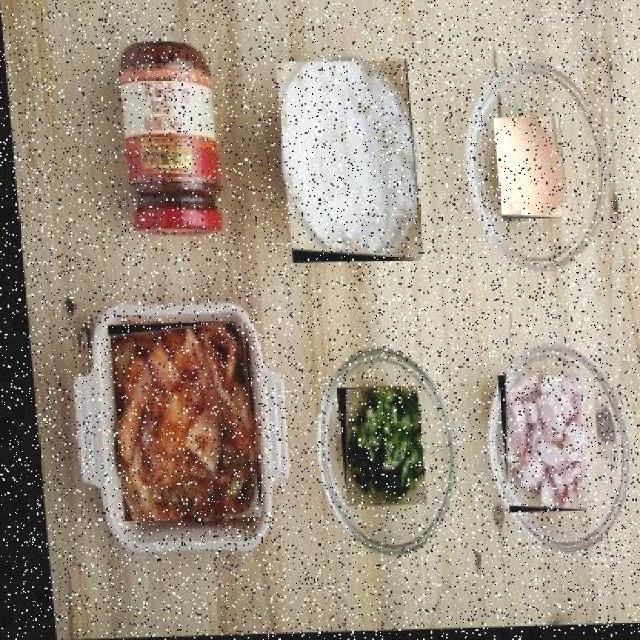Egg: (489, 118, 565, 222)
Kimchi: (100, 321, 251, 521)
Onion Leaves: (328, 387, 417, 508)
Pork: (488, 376, 586, 516)
